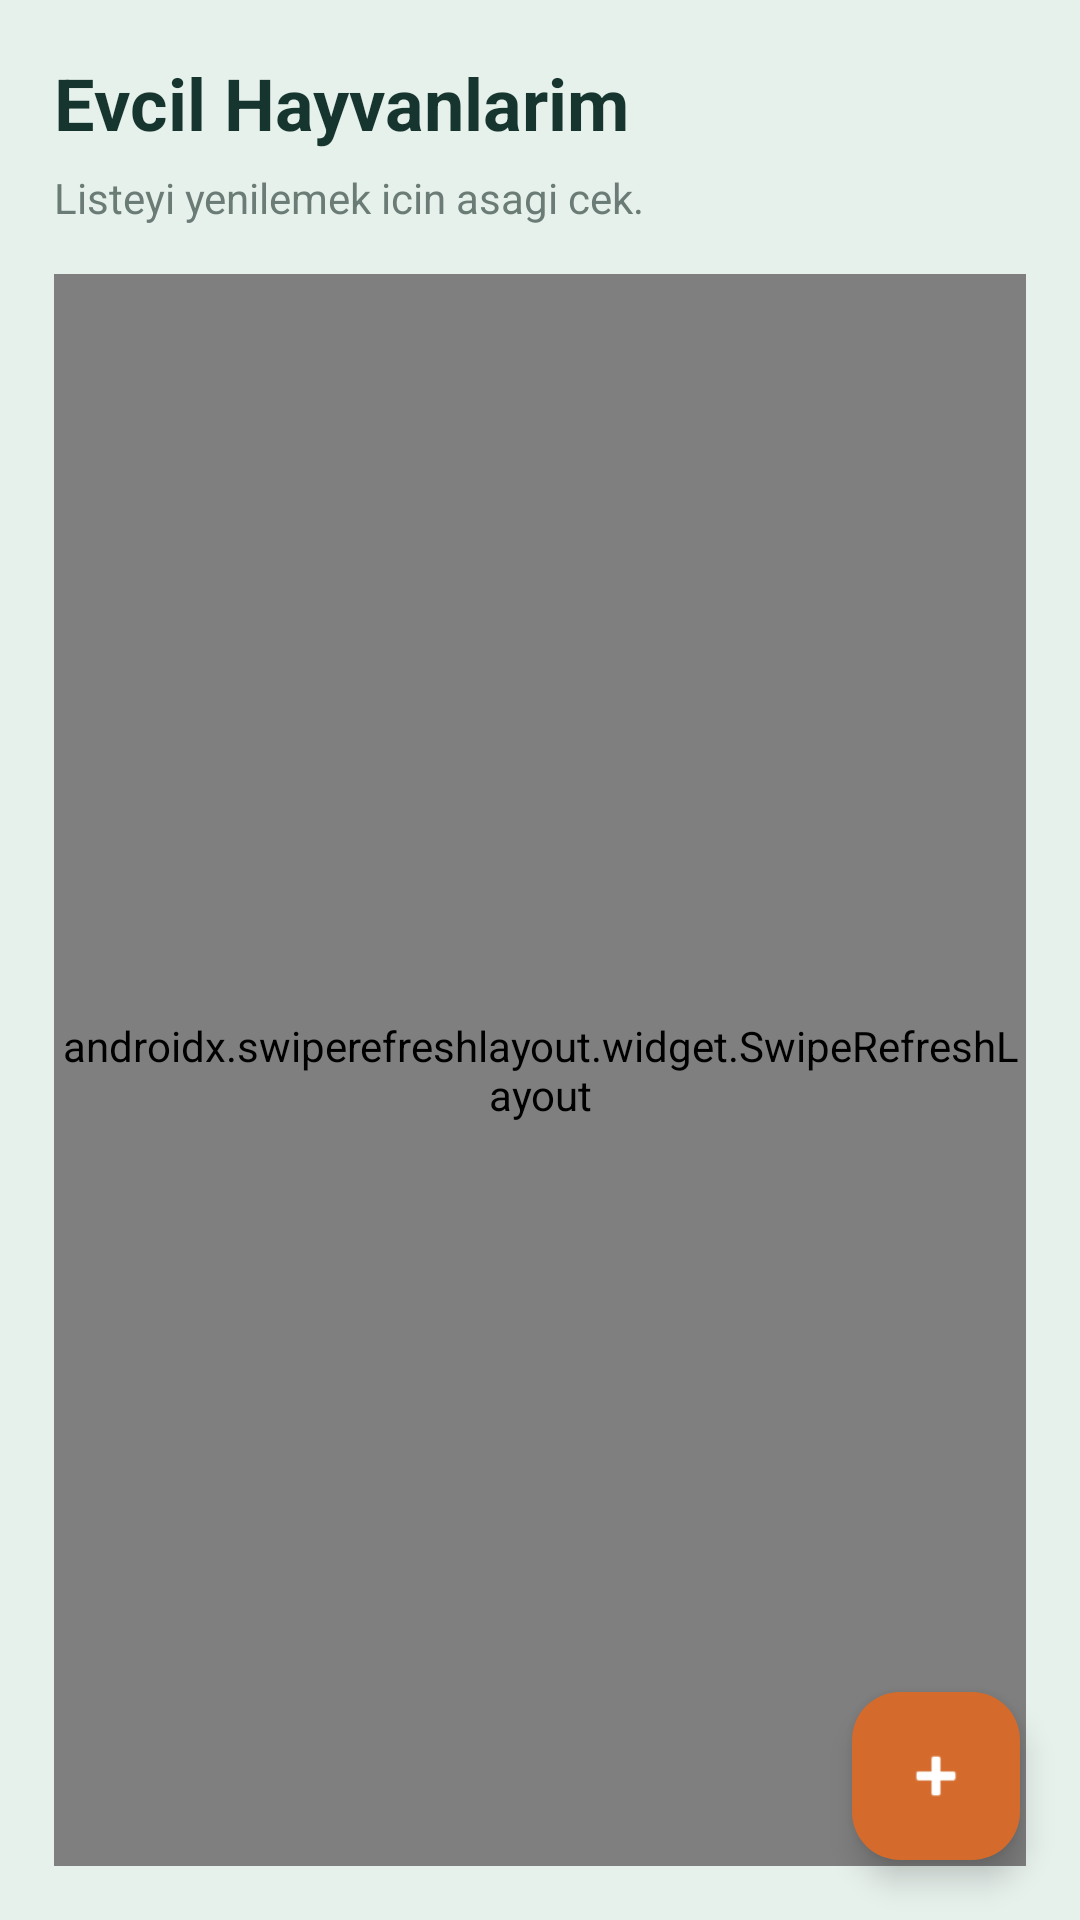

Icons on this 1080w x 1920h Android screen, each with its box as Rect(x1, y1, x2, y2):
Hayvan Ekle: Rect(852, 1692, 1020, 1860)
